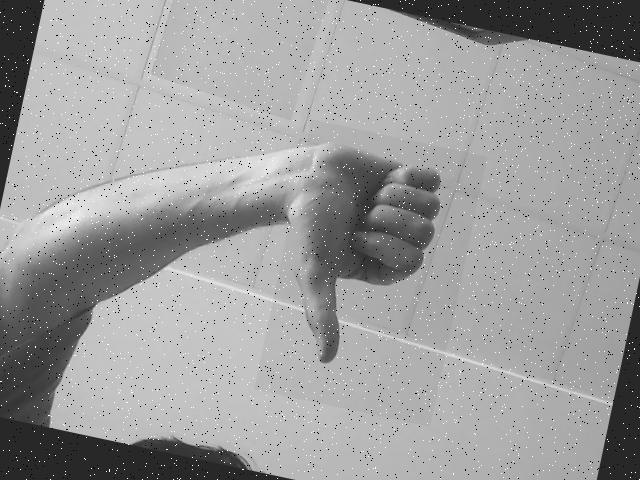bad: (254, 120, 486, 426)
